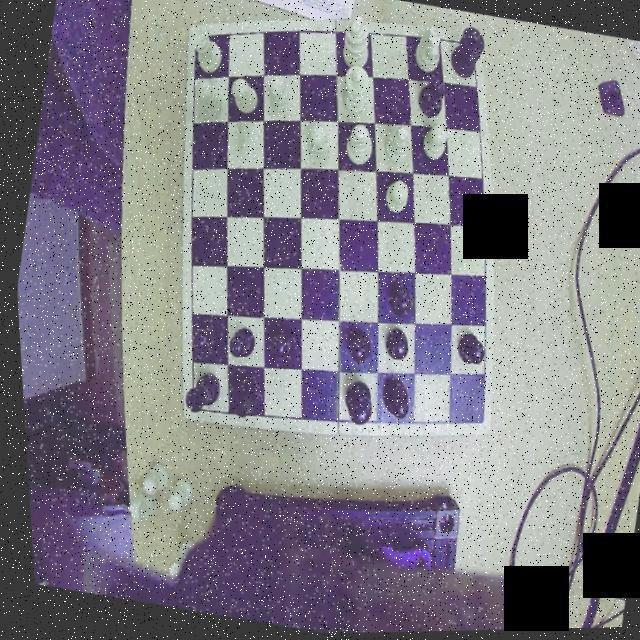chess-table-corners: (459, 405, 489, 437), (184, 24, 210, 57), (178, 396, 205, 424), (456, 32, 482, 59)
